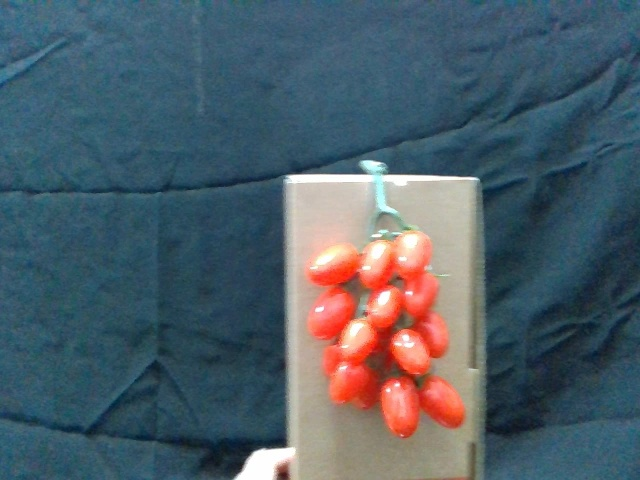tomato: (421, 374, 469, 432), (378, 377, 421, 441), (309, 288, 357, 340), (340, 318, 384, 370), (311, 245, 361, 288), (390, 328, 431, 378), (367, 284, 406, 331), (330, 363, 370, 408), (412, 311, 451, 357), (395, 231, 433, 278), (362, 241, 395, 293), (404, 276, 440, 319)
